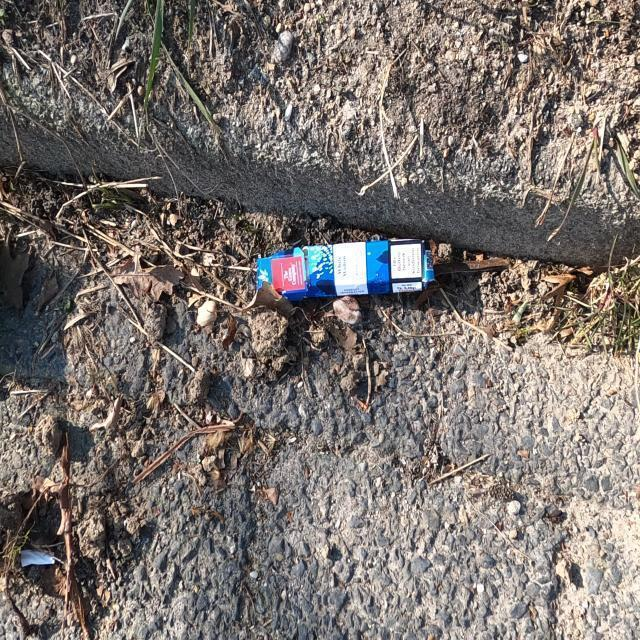Paper: (254, 237, 436, 303)
